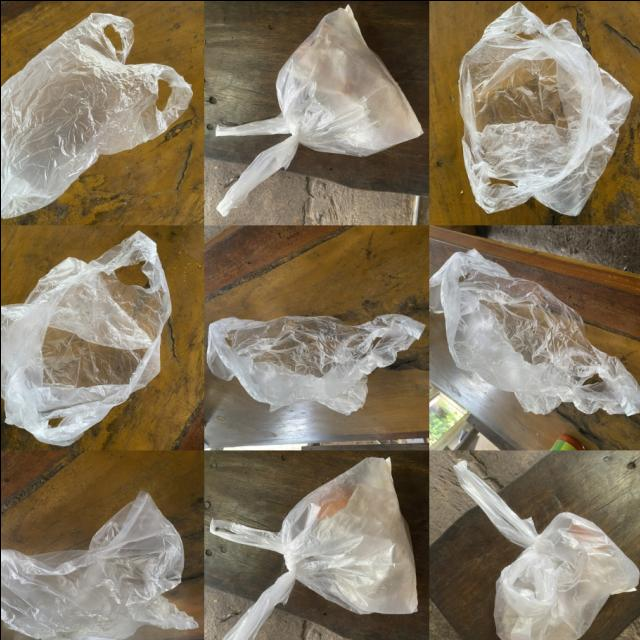plastik: (214, 5, 421, 216), (0, 12, 192, 217), (209, 457, 416, 640), (458, 2, 631, 214), (0, 231, 171, 445), (429, 249, 640, 415), (453, 460, 639, 640), (0, 490, 197, 640), (206, 314, 424, 415)
